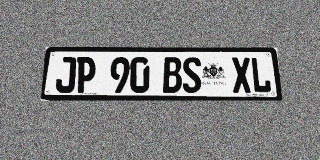0: (130, 57, 149, 93)
9: (110, 57, 130, 93)
B: (163, 57, 182, 93)
J: (55, 57, 77, 93)
L: (250, 57, 272, 93)
P: (75, 57, 96, 93)
S: (182, 57, 202, 93)
X: (231, 57, 252, 93)
